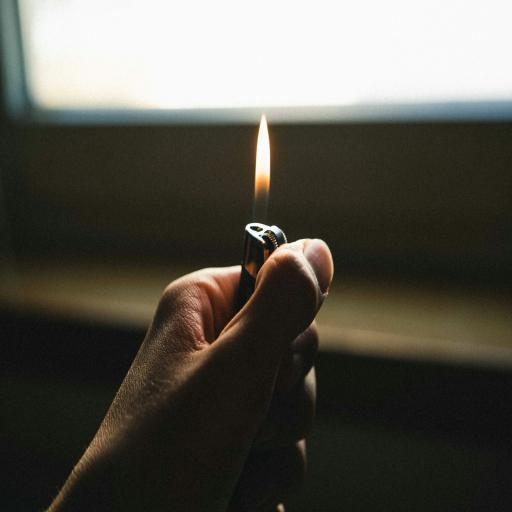fire: (254, 112, 275, 200)
lighter: (218, 108, 294, 315)
